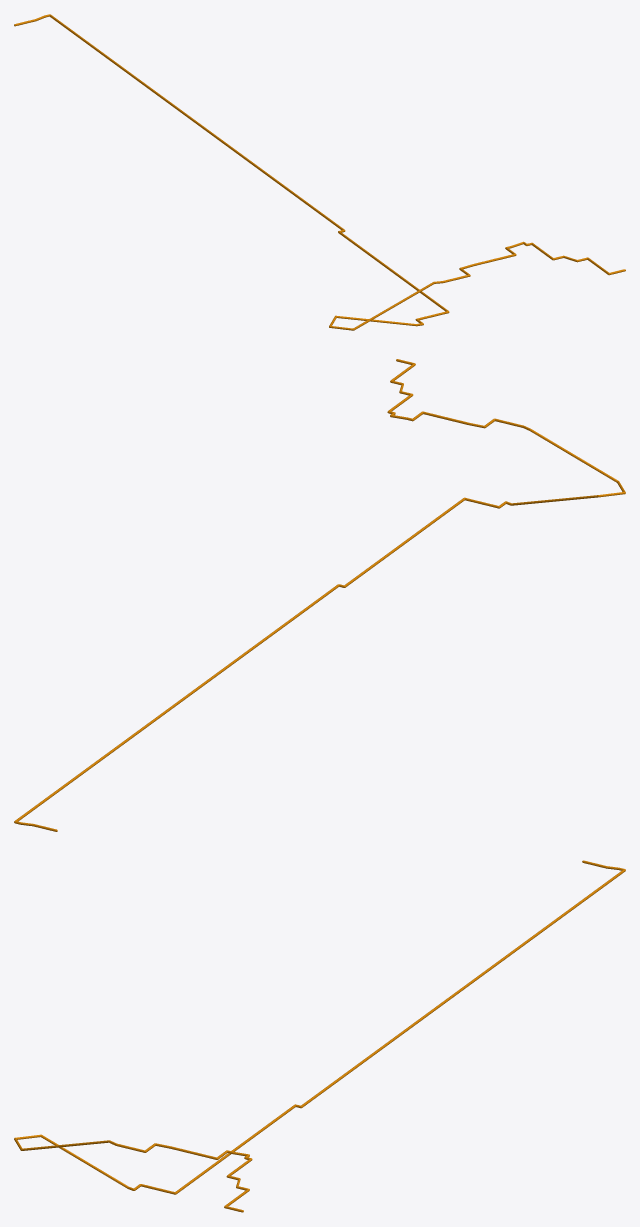
The picture shows the model from 3 angles, top to bottom: view 1: azimuth 30°, elevation 25°; view 2: azimuth 150°, elevation 25°; view 3: azimuth 330°, elevation 25°; orthographic projection. The views are drawn at different scales.
Bounding box in the file's own units: 2406 × 520 × 7619.
